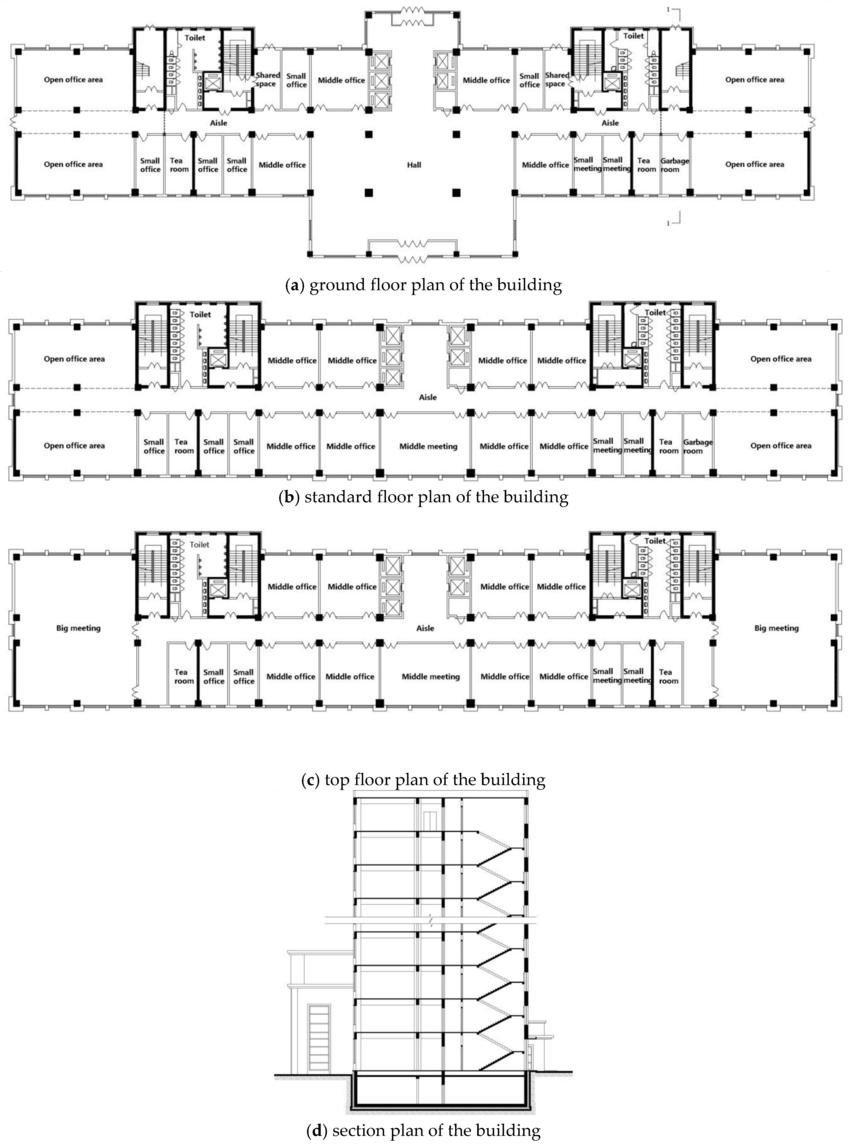room: (12, 551, 138, 707), (713, 554, 838, 706), (136, 302, 260, 387), (592, 304, 714, 387), (713, 410, 837, 476), (11, 324, 136, 389), (714, 324, 838, 389), (16, 411, 137, 476), (689, 133, 810, 196), (15, 49, 135, 112), (16, 133, 136, 196), (691, 49, 809, 111), (380, 641, 471, 707), (381, 412, 471, 475), (592, 534, 642, 617), (470, 553, 531, 619), (203, 29, 253, 109), (470, 411, 532, 475), (531, 641, 592, 706), (471, 641, 531, 707), (319, 556, 382, 618), (531, 412, 592, 476), (471, 325, 532, 389), (259, 641, 319, 706), (321, 324, 381, 389), (531, 552, 590, 618), (320, 642, 380, 706), (320, 411, 380, 475), (259, 411, 319, 475), (260, 324, 320, 388), (532, 325, 591, 389), (260, 555, 318, 618), (457, 49, 516, 110), (515, 134, 573, 196), (311, 50, 369, 111), (254, 134, 312, 194), (133, 28, 166, 110), (137, 533, 169, 617), (683, 533, 714, 617), (661, 29, 690, 109), (227, 534, 260, 598), (167, 640, 197, 707), (683, 412, 714, 476), (622, 412, 653, 476), (198, 642, 228, 707), (228, 642, 258, 707), (592, 641, 622, 706), (592, 411, 622, 476), (622, 642, 652, 706), (652, 642, 682, 706), (653, 412, 683, 476), (198, 412, 228, 476), (168, 412, 198, 476), (222, 133, 252, 195), (229, 412, 258, 476), (138, 411, 167, 475), (602, 134, 632, 195), (515, 49, 545, 110), (164, 134, 194, 195), (281, 48, 310, 111), (573, 134, 602, 196), (544, 48, 573, 110), (135, 132, 164, 194), (661, 134, 690, 195), (194, 134, 223, 195), (632, 133, 660, 195), (253, 49, 281, 110), (208, 597, 260, 617), (208, 578, 228, 598)
